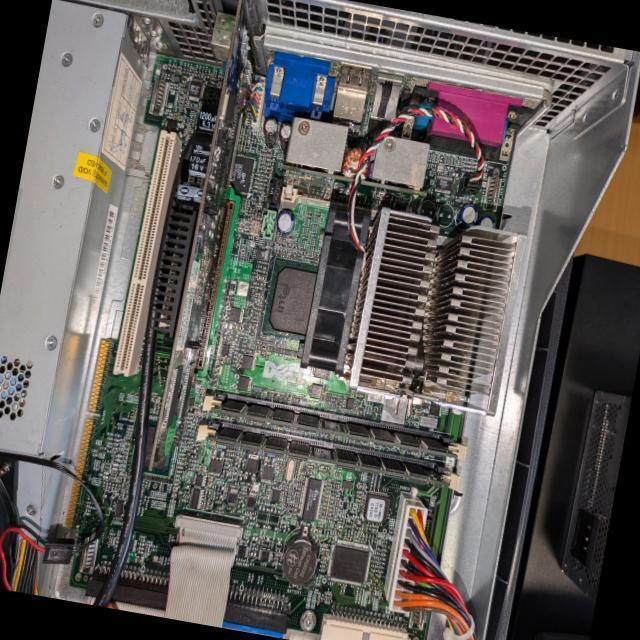CPU_Fan: (296, 188, 528, 416)
Mainboard: (59, 52, 518, 640)
PSU: (0, 0, 150, 463)
RAM: (198, 388, 468, 468), (208, 416, 450, 491)
